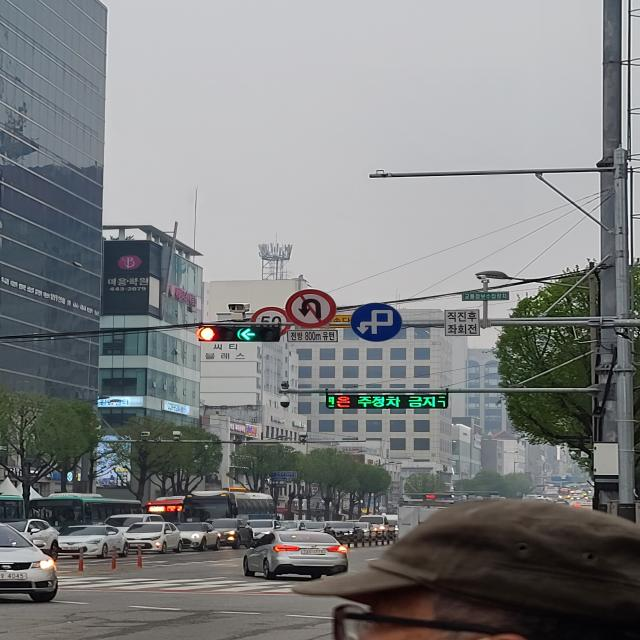Red Light: (196, 325, 218, 341)
